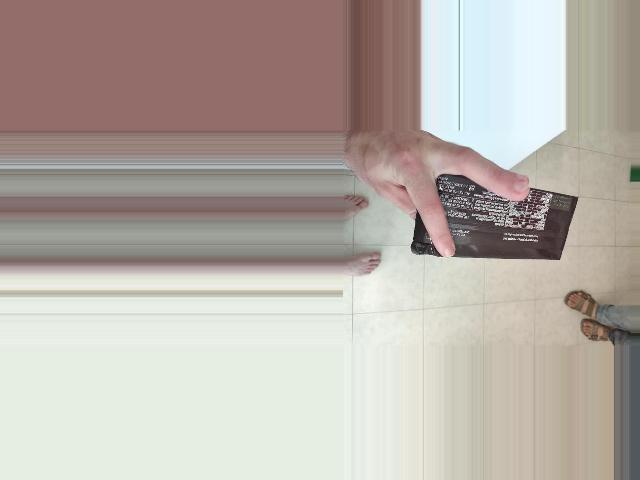chocolate: (445, 173, 549, 364)
